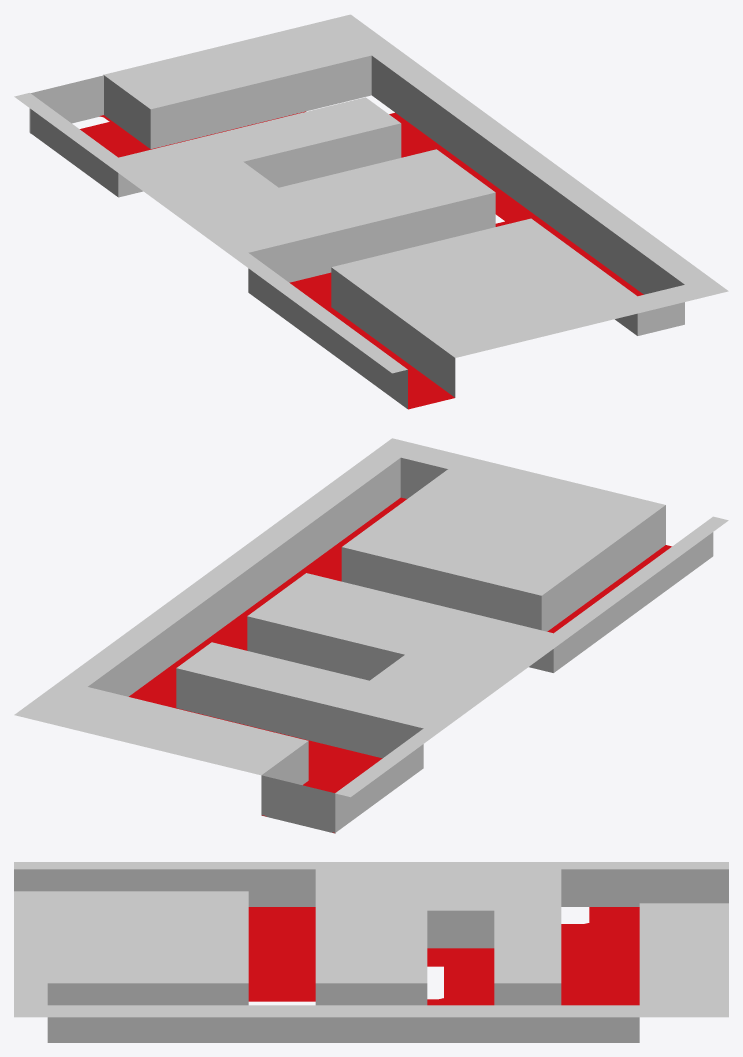
The model's file is experimentalplatform.fbx.
3 views of the same model, one above another, from view 1: azimuth 30°, elevation 25°; view 2: azimuth 150°, elevation 25°; view 3: azimuth 270°, elevation 25° (orthographic). The views are drawn at different scales.
Parts seen in each view (by area): view 1: Plane.002, Plane.001; view 2: Plane.002, Plane.001; view 3: Plane.002, Plane.001.
Part boxes in pixels (x1,y1,x2,y2): Plane.002: (14,14,728,408); Plane.001: (80,111,643,409); Plane.002: (14,438,728,833); Plane.001: (129,497,671,833); Plane.002: (14,862,728,1042); Plane.001: (248,907,639,1005).
Size of the model in its own units: 2000 by 230 by 3891.
